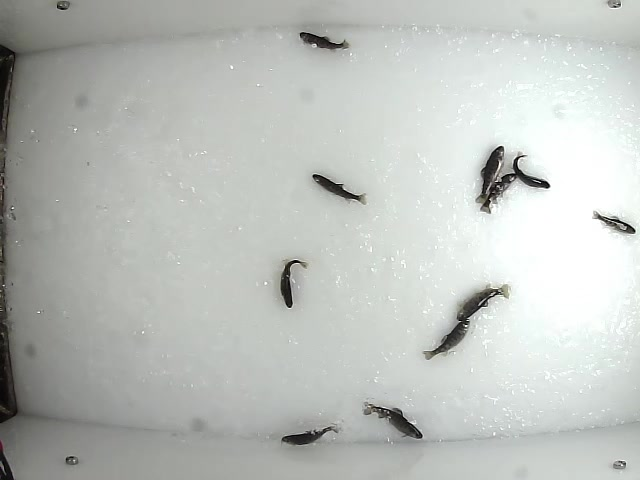fish: (362, 399, 426, 440), (453, 282, 511, 323), (420, 315, 471, 361), (476, 170, 522, 214), (311, 173, 369, 207), (474, 143, 505, 206), (512, 148, 553, 189), (278, 257, 309, 308), (280, 421, 340, 446), (591, 208, 638, 238), (296, 31, 351, 52)
